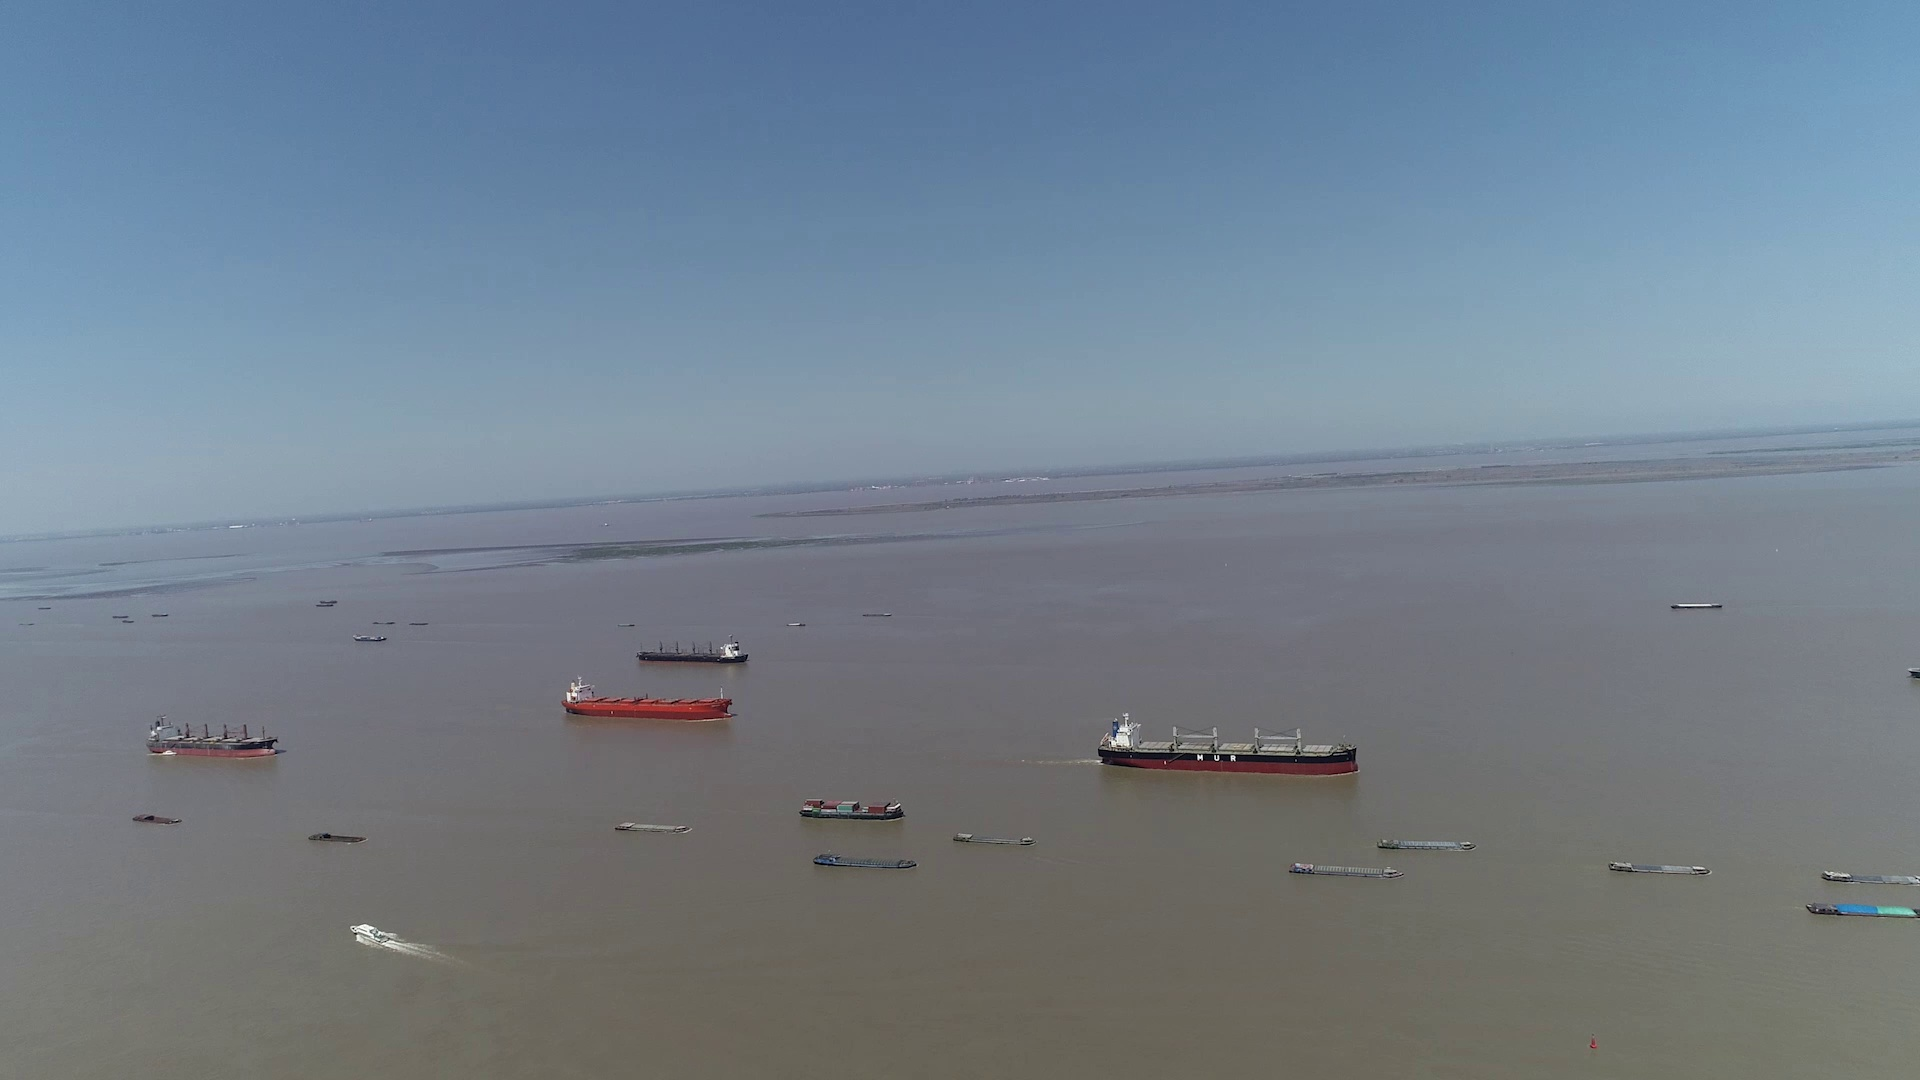ship: (1093, 713, 1360, 777), (560, 676, 731, 720), (149, 713, 277, 758), (636, 638, 748, 665), (799, 798, 905, 820), (1287, 862, 1404, 880), (1820, 866, 1916, 886), (814, 851, 916, 869), (1607, 858, 1710, 876), (1801, 905, 1917, 919), (351, 923, 407, 949), (1377, 836, 1472, 851), (955, 831, 1033, 847), (615, 820, 694, 833), (307, 833, 367, 844), (132, 812, 179, 825), (1668, 603, 1720, 609), (352, 633, 386, 642)
